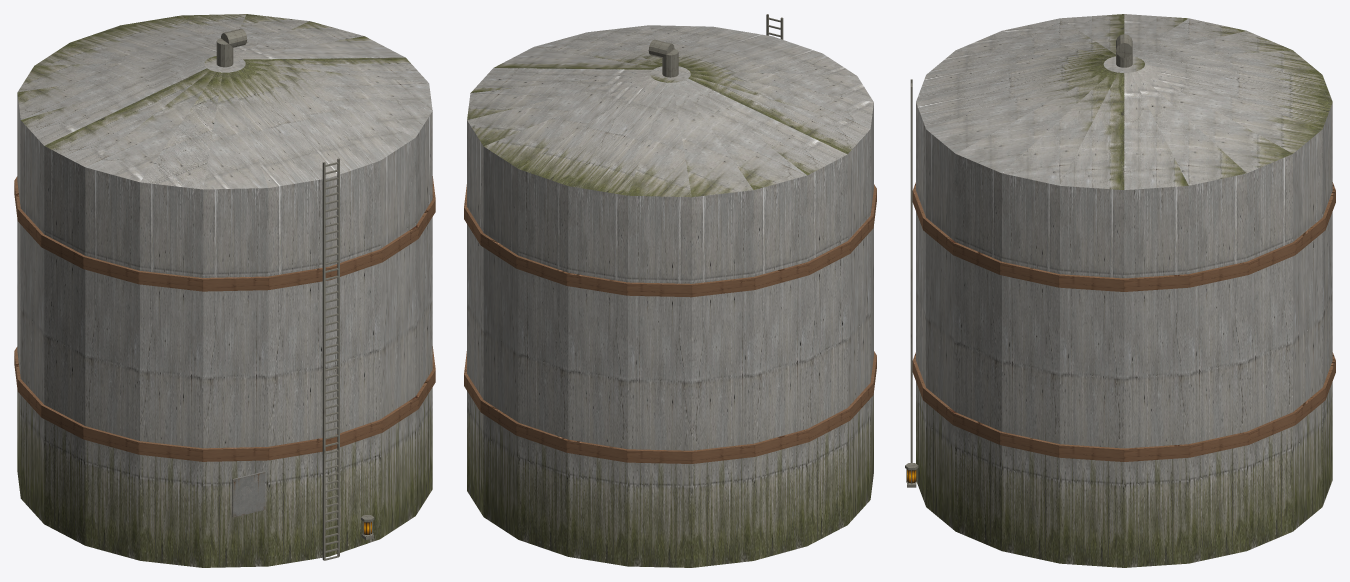
Rendered from propellant-tank.glb.
3 views of the same model, side by side, from view 1: azimuth 30°, elevation 25°; view 2: azimuth 150°, elevation 25°; view 3: azimuth 270°, elevation 25° (orthographic). The views are drawn at different scales.
Visible parts, largest first — view 1: propellant-tank_concrete, propellant-tank_metal; view 2: propellant-tank_concrete, propellant-tank_metal; view 3: propellant-tank_concrete, propellant-tank_metal.
Part boxes in pixels (left/top/right/bottom): propellant-tank_concrete: left=17, top=14, right=432, bottom=567; propellant-tank_metal: left=14, top=28, right=435, bottom=560; propellant-tank_concrete: left=467, top=25, right=873, bottom=567; propellant-tank_metal: left=464, top=14, right=876, bottom=463; propellant-tank_concrete: left=916, top=14, right=1332, bottom=567; propellant-tank_metal: left=905, top=34, right=1335, bottom=487.
Bounding box in the file's own units: 20.3 × 23.64 × 20.67.
3 materials, 3 textured.
